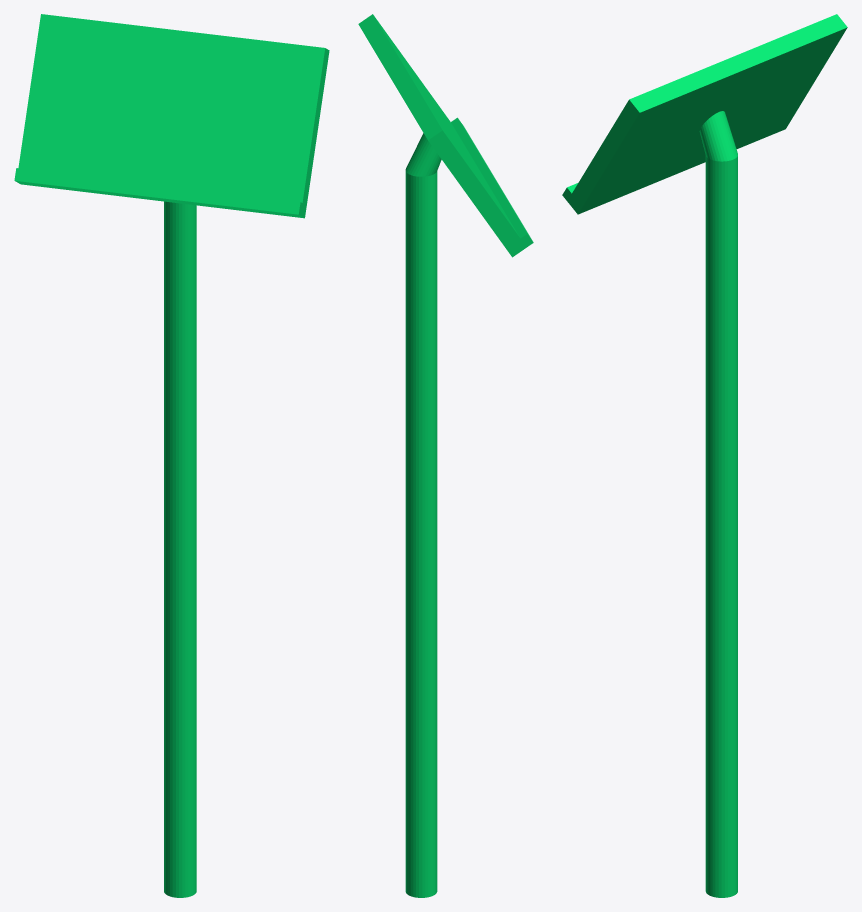
The model's file is pupitre 2.fbx.
3 renders of one model, left to right at view 1: azimuth 30°, elevation 25°; view 2: azimuth 150°, elevation 25°; view 3: azimuth 270°, elevation 25°, orthographic. The views are drawn at different scales.
Parts seen in each view (by area): view 1: Pupitre; view 2: Pupitre; view 3: Pupitre.
Part boxes in pixels (<box>): Pupitre: <box>14,14,329,897</box>; Pupitre: <box>358,14,533,897</box>; Pupitre: <box>562,14,847,897</box>.
Size of the model in its own units: 55.62 by 182 by 56.31.
